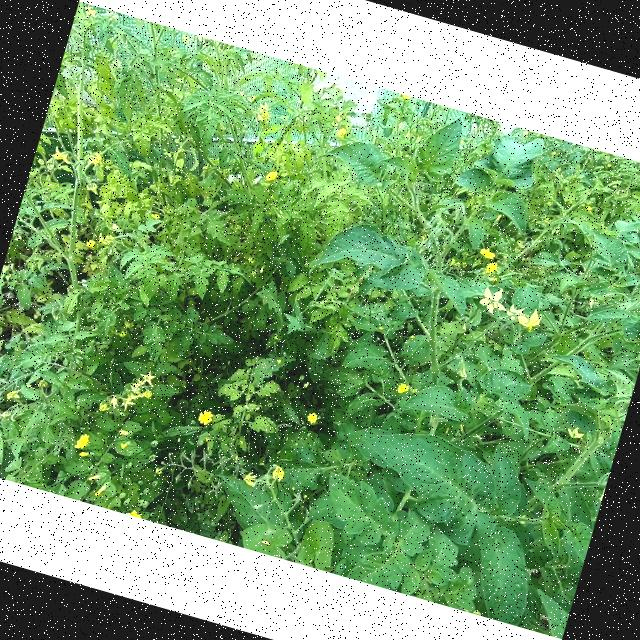Flowers: (502, 301, 544, 335), (476, 284, 510, 316), (71, 431, 98, 459), (48, 144, 77, 167), (125, 379, 155, 399), (118, 390, 140, 413), (254, 102, 274, 124), (136, 368, 158, 386), (269, 462, 288, 482), (195, 408, 215, 426), (565, 424, 585, 441), (95, 231, 116, 247), (242, 470, 260, 488), (88, 148, 106, 166), (478, 244, 498, 260), (119, 318, 133, 339), (5, 386, 22, 403), (484, 260, 500, 277), (331, 109, 344, 129), (304, 409, 320, 424), (394, 381, 410, 396), (264, 169, 278, 183), (108, 392, 120, 408), (96, 400, 111, 412), (450, 259, 468, 269), (126, 507, 142, 518), (334, 126, 346, 139), (586, 296, 598, 308), (398, 94, 411, 104), (86, 238, 97, 248), (110, 222, 120, 232), (149, 212, 160, 220)
